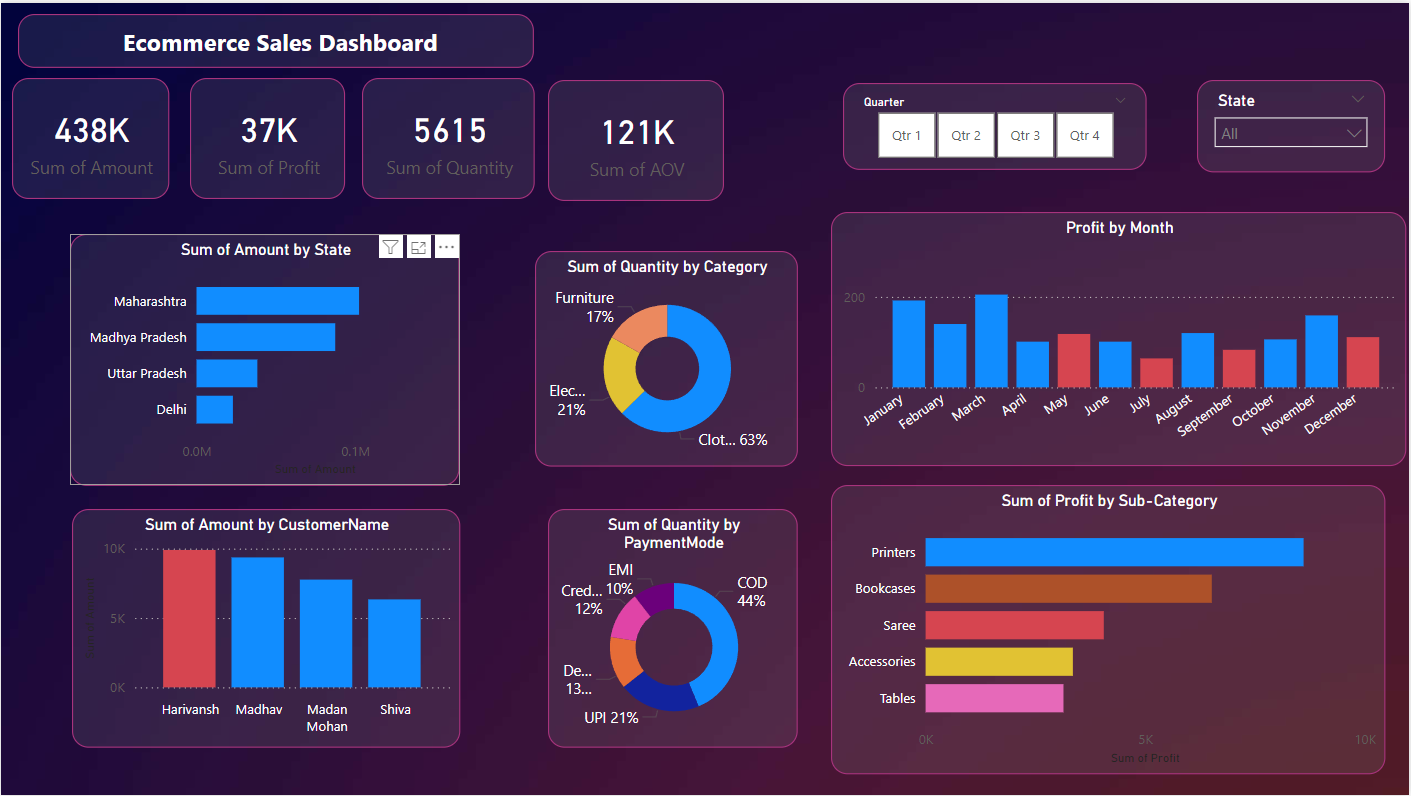

What the dashboard file says about the page in this screenshot:
{"tool":"powerbi","page":{"name":"Page 1","canvas":[1280,720],"ordinal":0},"visuals":[{"type":"textbox","box":[15.1,9.6,469.3,49.4],"z":0},{"type":"columnChart","title":"Profit by Month","fields":{"Category":["Orders.Order Date.Variation.Date Hierarchy.Month"],"Y":["Details.Profit"]},"box":[754.3,190,522.9,231.4],"z":1000},{"type":"barChart","fields":{"Category":["Details.Sub-Category"],"Y":["Details.Profit"]},"box":[754.3,438.6,504.3,262.9],"z":2000},{"type":"donutChart","fields":{"Category":["Details.Category"],"Y":["Details.Quantity"]},"box":[485.7,225.7,238.6,195.7],"z":3000},{"type":"donutChart","fields":{"Y":["Details.Quantity"],"Category":["Details.PaymentMode"]},"box":[497.1,460,227.1,217.1],"z":4000},{"type":"card","fields":{"Values":["Details.Amount"]},"box":[10,68.6,142.9,110],"z":5000},{"type":"card","fields":{"Values":["Details.Quantity"]},"box":[328.6,68.6,157.1,110],"z":6000},{"type":"card","fields":{"Values":["Details.Profit"]},"box":[171.4,68.6,141.4,110],"z":7000},{"type":"card","fields":{"Values":["Details.AOV"]},"box":[497.1,70,160,110],"z":8000},{"type":"barChart","fields":{"Category":["Orders.State"],"Y":["Details.Amount"]},"box":[62.9,210,354.3,228.6],"z":9000},{"type":"columnChart","fields":{"Y":["Details.Amount"],"Category":["Orders.CustomerName"]},"box":[64.3,460,352.9,217.1],"z":10000},{"type":"slicer","fields":{"Values":["Orders.Order Date.Variation.Date Hierarchy.Quarter"]},"box":[765.7,72.9,275.7,78.6],"z":11000},{"type":"slicer","fields":{"Values":["Orders.State"]},"box":[1087.1,70,171.4,84.3],"z":12000}]}

Visuals, with their boxes in screenshot pixels (x1, y1, x2, y2), scaled from the page's 1280x720 canvas onto the 1411x796 screenshot:
textbox: 17 11 534 65
"Profit by Month" columnChart: 831 210 1408 466
barChart - Details.Sub-Category x Details.Profit: 831 485 1387 776
donutChart - Details.Category x Details.Quantity: 535 250 798 466
donutChart - Details.Quantity x Details.PaymentMode: 548 509 798 749
card - Details.Amount: 11 76 169 197
card - Details.Quantity: 362 76 535 197
card - Details.Profit: 189 76 345 197
card - Details.AOV: 548 77 724 199
barChart - Orders.State x Details.Amount: 69 232 460 485
columnChart - Details.Amount x Orders.CustomerName: 71 509 460 749
slicer - Orders.Order Date.Variation.Date Hierarchy.Quarter: 844 81 1148 167
slicer - Orders.State: 1198 77 1387 171
